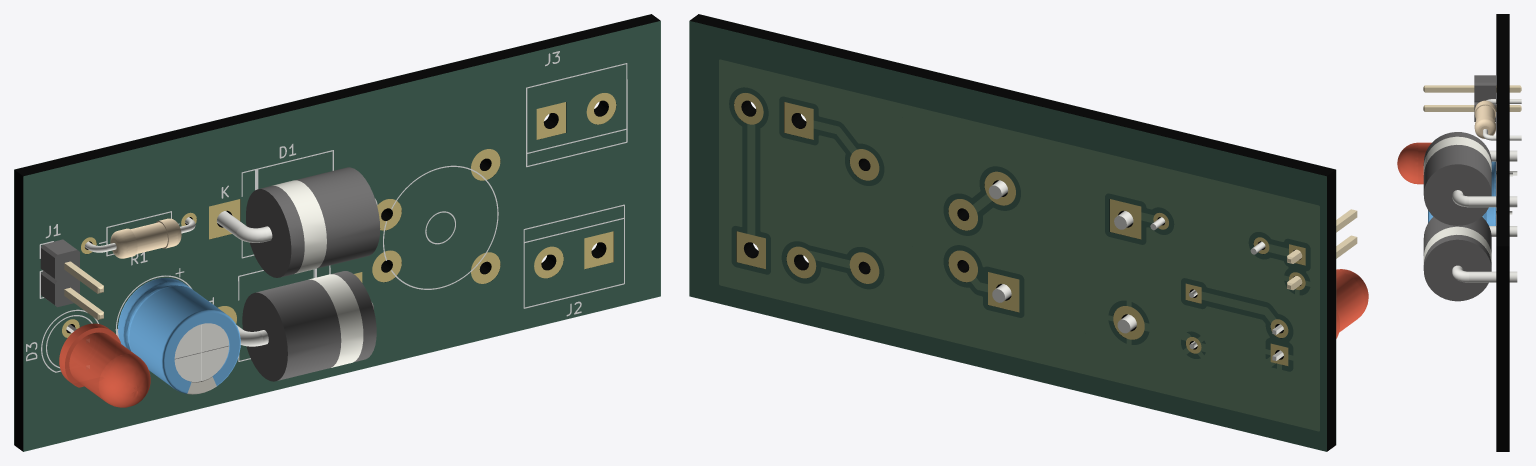
File: pcb_modelo.glb
3 views of the same model, side by side, from view 1: azimuth 30°, elevation 25°; view 2: azimuth 150°, elevation 25°; view 3: azimuth 270°, elevation 25° (orthographic). The views are drawn at different scales.
Visible parts, largest first — view 1: Shape (×20); view 2: Shape (×5); view 3: Shape (×26).
Boxes of the visible parts, box(x1,y1,x2,y2) form: Shape (×20): box(14, 14, 660, 451); Shape (×5): box(689, 14, 1364, 451); Shape (×26): box(1397, 14, 1517, 451).
Bounding box in the file's own units: 0.0646 × 0.0267 × 0.0146.
